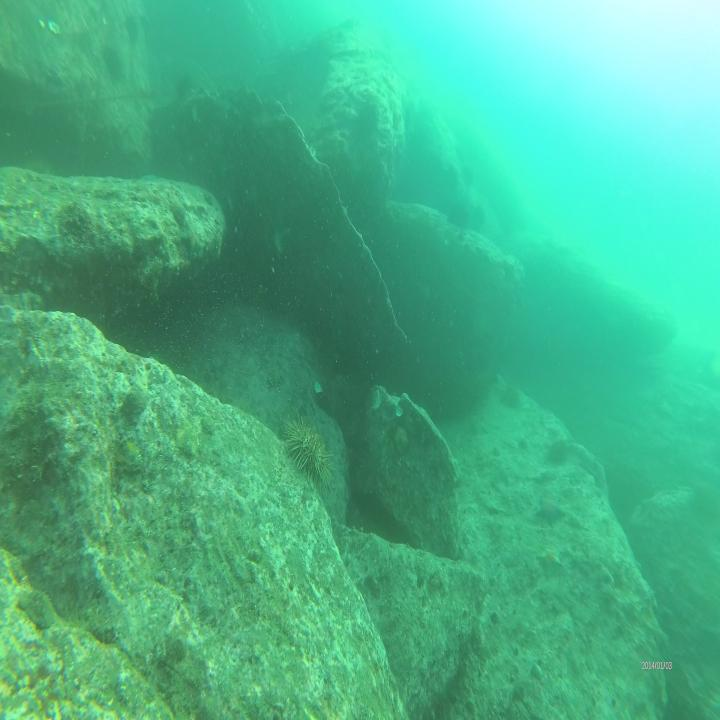echinus: (282, 406, 337, 491), (546, 432, 571, 466), (500, 379, 525, 409)
